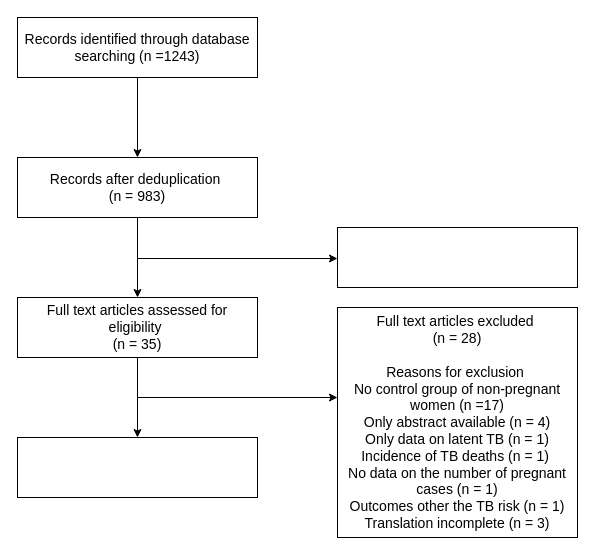
This 595x555 diagram has some shape labels left out. Here are the shapes that lost their labels. From the top down, the centre of each, then its label:
the point at 457,257: R ecords excluded based on title/abstract (n =948 )
the point at 137,467: Studies included in the quantitative synthesis (n =7)
